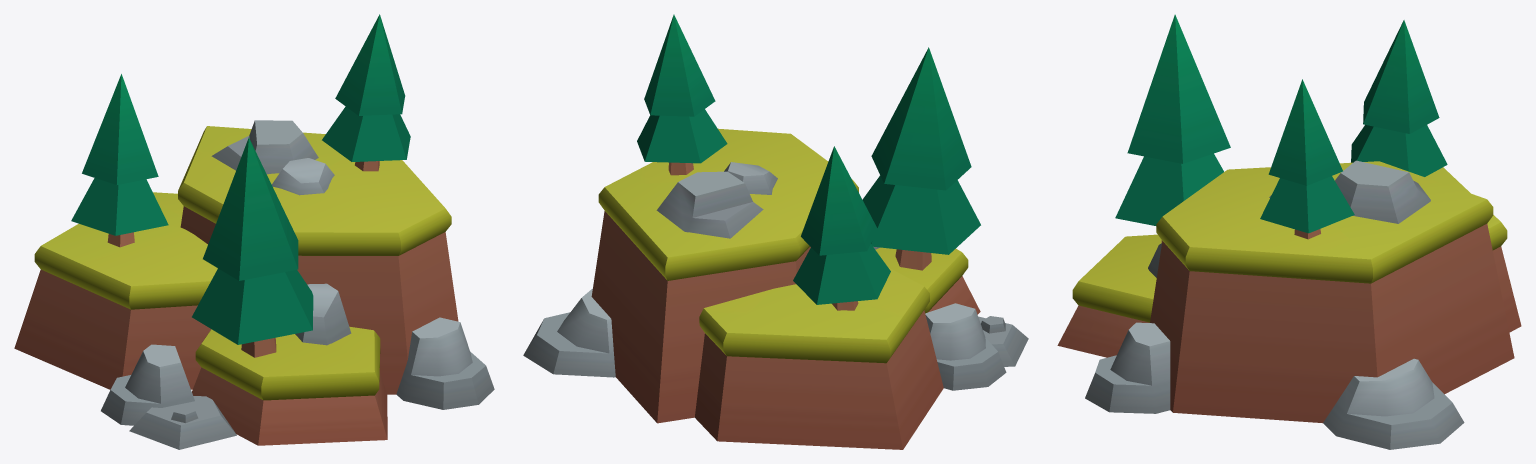
File: hills_a_trees.glb
3 renders of one model, left to right at view 1: azimuth 30°, elevation 25°; view 2: azimuth 150°, elevation 25°; view 3: azimuth 270°, elevation 25°, orthographic. The views are drawn at different scales.
Visible parts, largest first — view 1: hills_A_trees; view 2: hills_A_trees; view 3: hills_A_trees.
Boxes of the visible parts, x1=… form: hills_A_trees: x1=14, y1=14, x2=494, y2=449; hills_A_trees: x1=523, y1=14, x2=1028, y2=449; hills_A_trees: x1=1057, y1=14, x2=1521, y2=449.
Size of the model in its own units: 1.76 by 1.33 by 1.74.
1 material, 1 textured.
